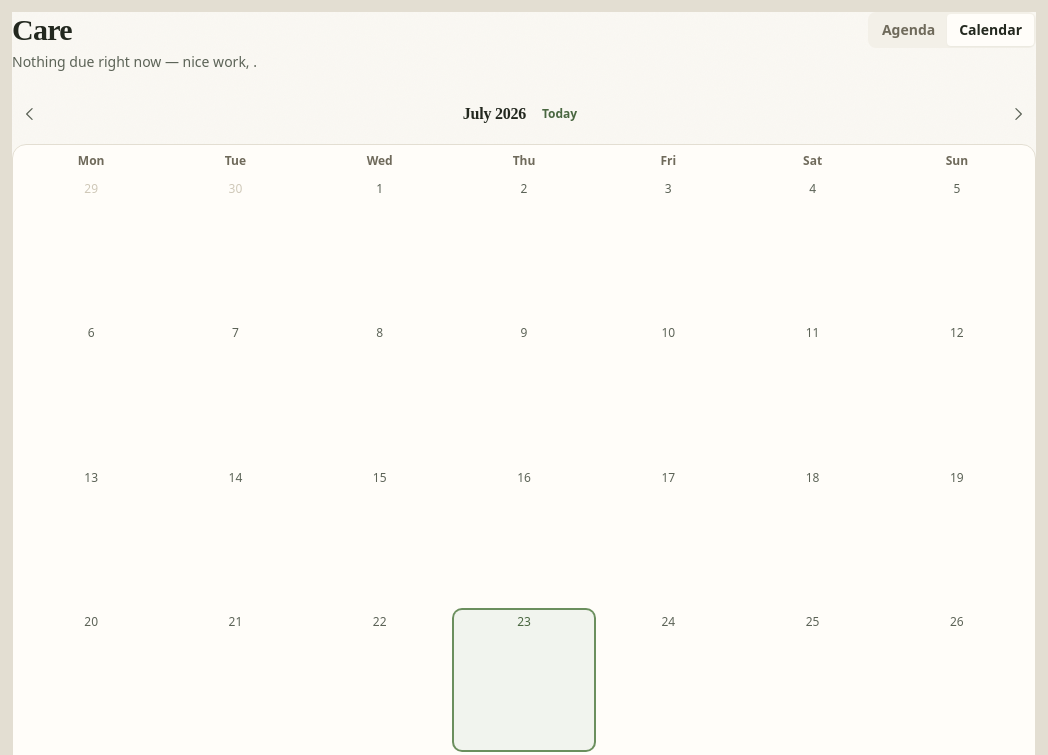
Test: TasksView › refetches when the calendar pages to another month
Click the button named "Next month" at {"x": 1018, "y": 114}, box [1000,96,1036,132]
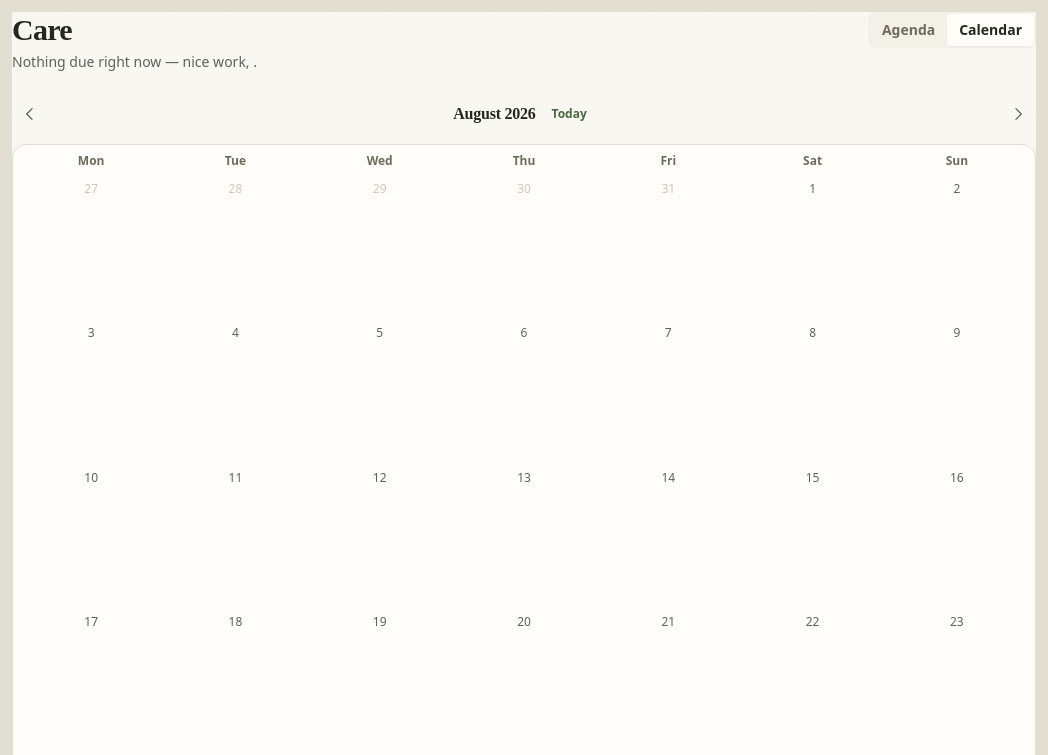
Result: the text "August 2026" is shown at [453,102,536,126]
